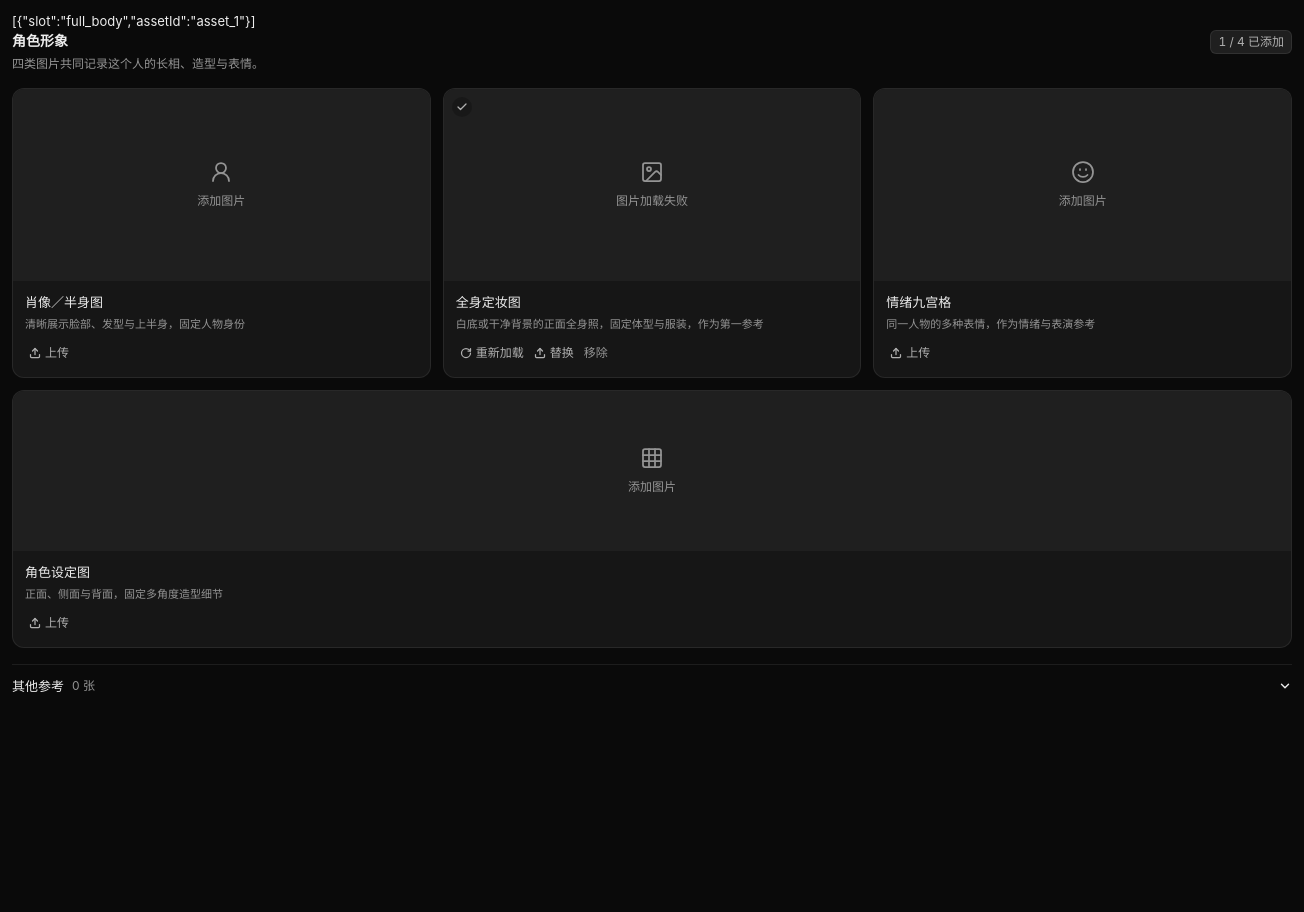
角色形象的四类图片 › 大图加载失败有重试入口，重试后换一张图重新加载
Expected: the text "图片加载失败" is shown, x1=616 y1=192 x2=688 y2=210
Click the button with aria-label "重新加载全身定妆图".
click(492, 353)  # box x1=456 y1=341 x2=528 y2=365
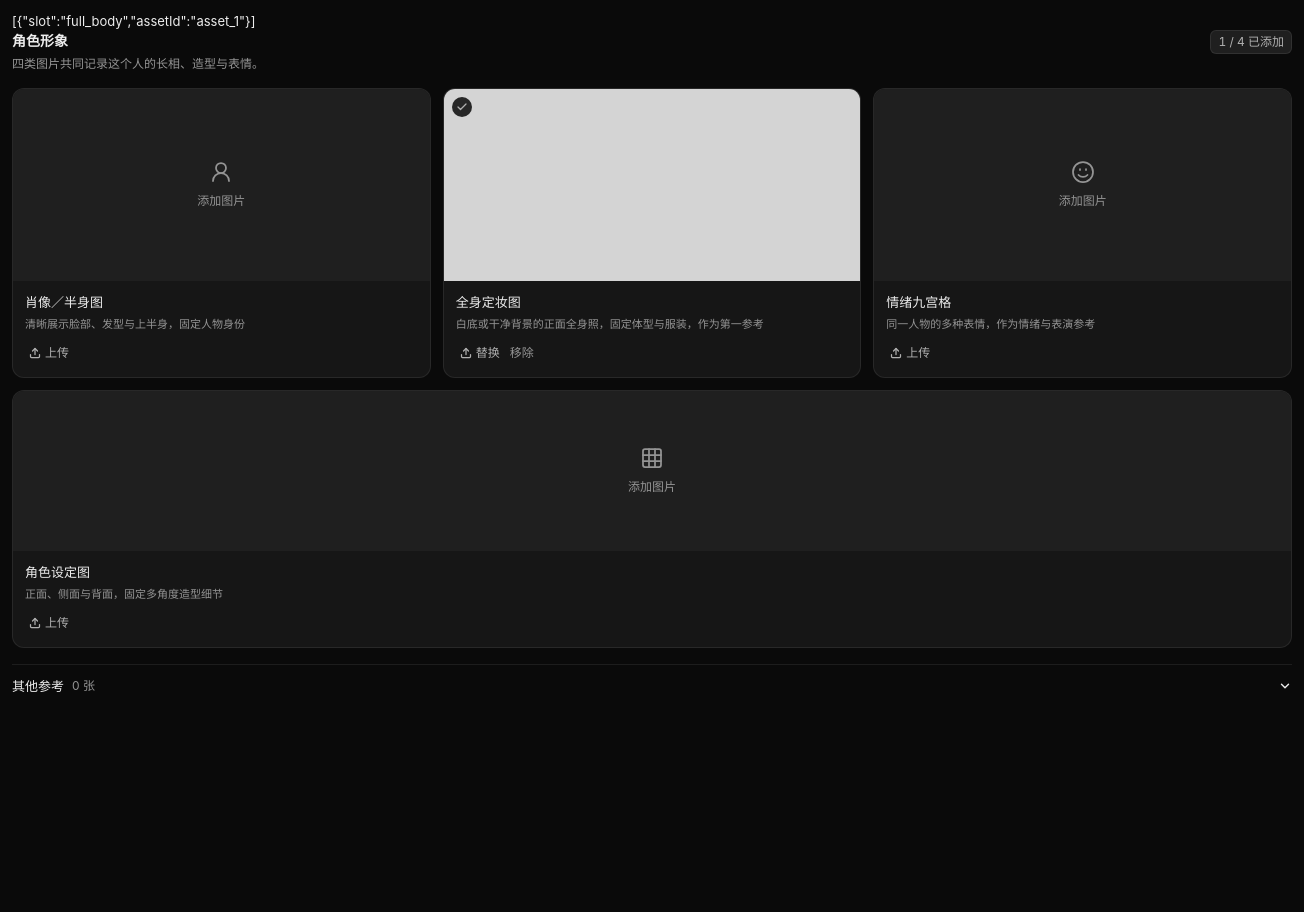
Result: the text "图片加载失败" is gone
